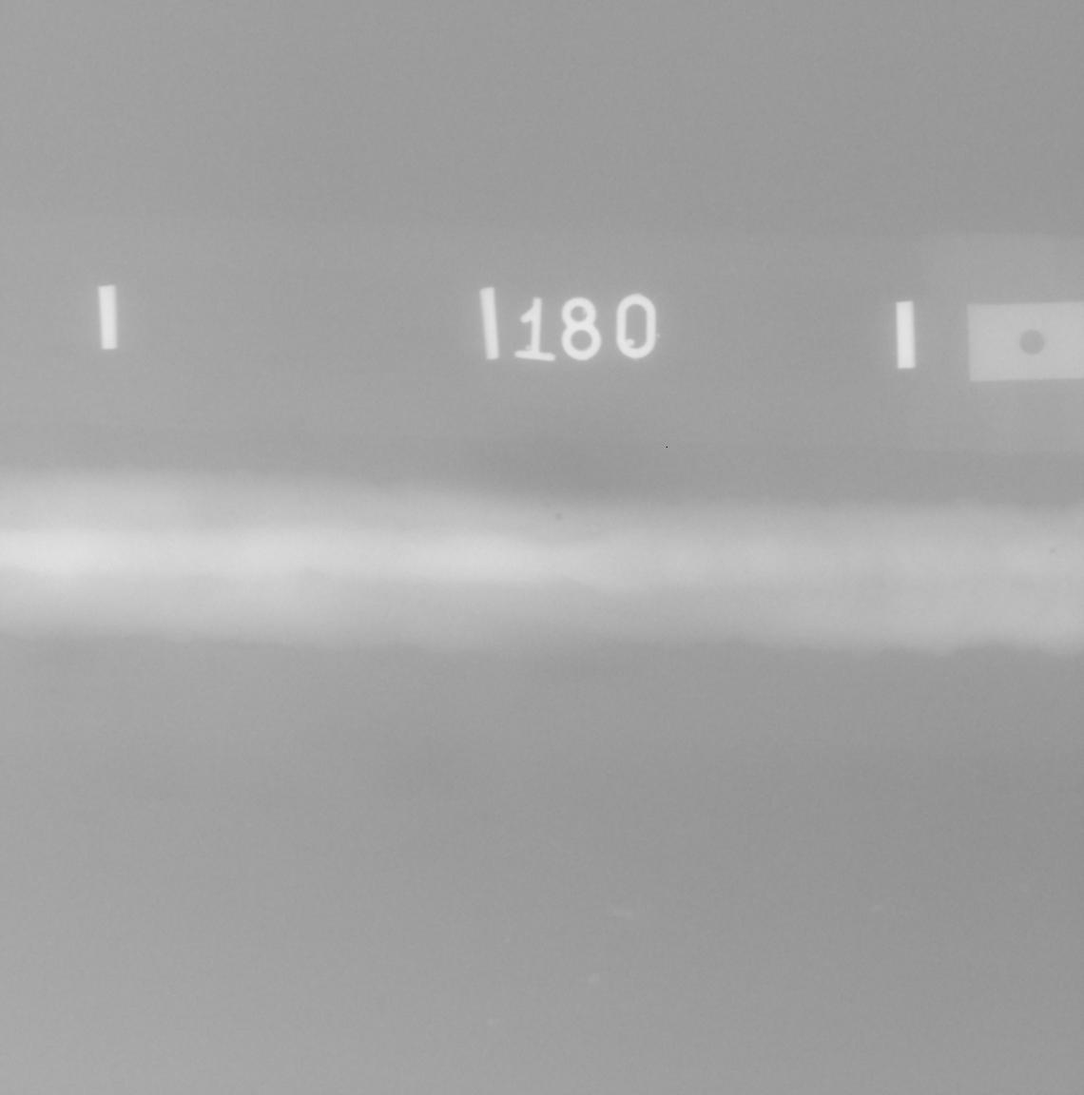Pore/Porosity: (555, 513, 562, 522), (1051, 547, 1058, 553), (545, 503, 550, 507)
